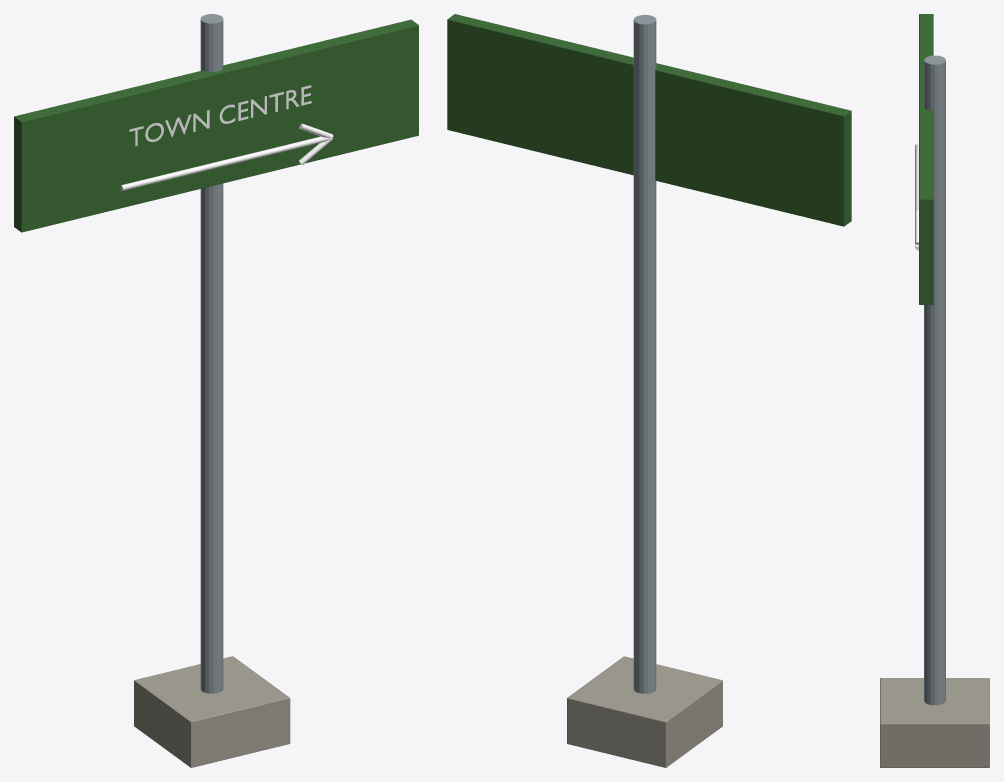
Rendered from road-sign.glb.
3 views of the same model, side by side, from view 1: azimuth 30°, elevation 25°; view 2: azimuth 150°, elevation 25°; view 3: azimuth 270°, elevation 25° (orthographic). The views are drawn at different scales.
Parts seen in each view (by area): view 1: Direction_Board, Post, Footing, Arrow_Shaft, Editable_Label_TOWN_CENTRE; view 2: Direction_Board, Post, Footing; view 3: Post, Footing, Direction_Board, Arrow_Shaft.
Boxes of the visible parts, bbox=[...] form: Direction_Board: bbox=[14, 19, 418, 232]; Post: bbox=[200, 14, 223, 693]; Footing: bbox=[134, 656, 290, 767]; Arrow_Shaft: bbox=[121, 136, 332, 190]; Editable_Label_TOWN_CENTRE: bbox=[129, 85, 311, 146]; Direction_Board: bbox=[447, 14, 851, 226]; Post: bbox=[633, 15, 656, 693]; Footing: bbox=[567, 656, 722, 767]; Post: bbox=[924, 55, 945, 705]; Footing: bbox=[880, 678, 989, 767]; Direction_Board: bbox=[919, 14, 933, 304]; Arrow_Shaft: bbox=[915, 143, 918, 211].
Size of the model in its own units: 1.8 by 3.1 by 0.45.
